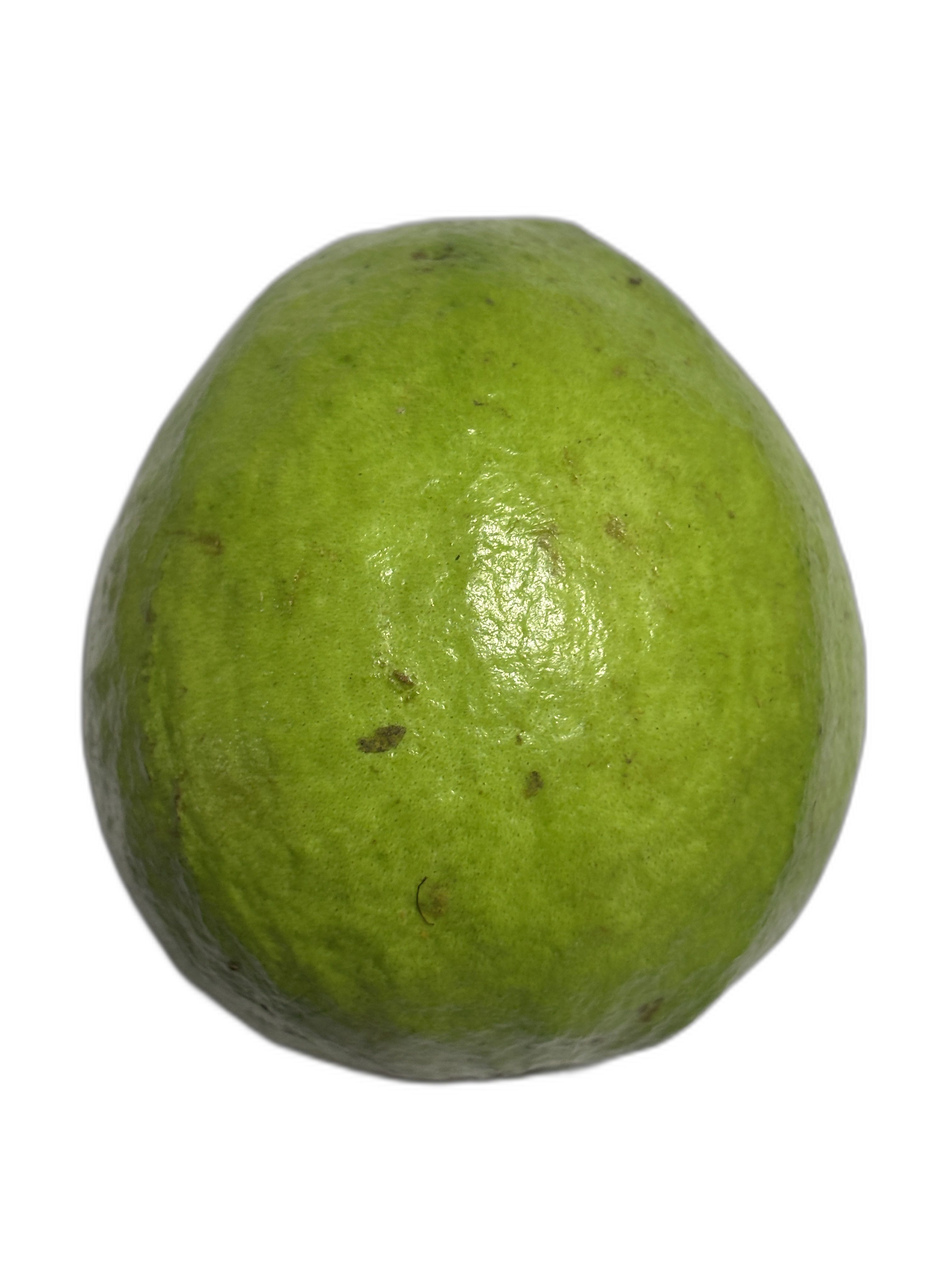guava: (247, 222, 861, 1072)
